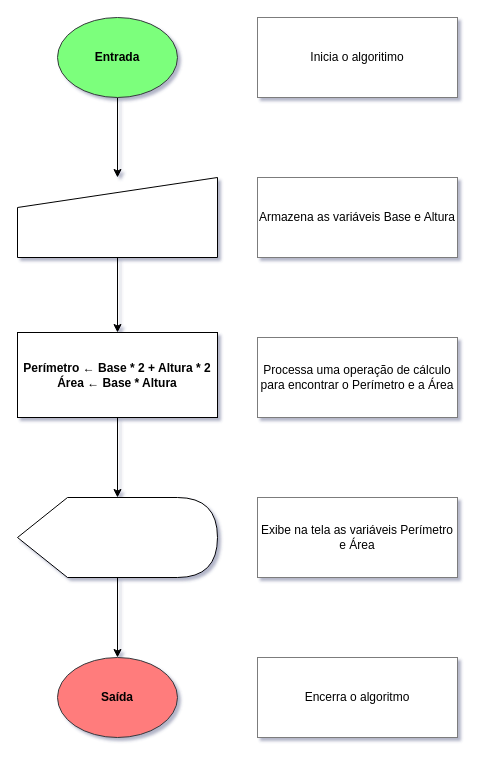
Image size: 481x761. Some labels were removed from this diagram. Here are the shapes that lost their labels. From the top down, the box of each, then its label:
(16, 176, 218, 258): Base, Altura
(16, 496, 218, 578): Perímetro, Área
